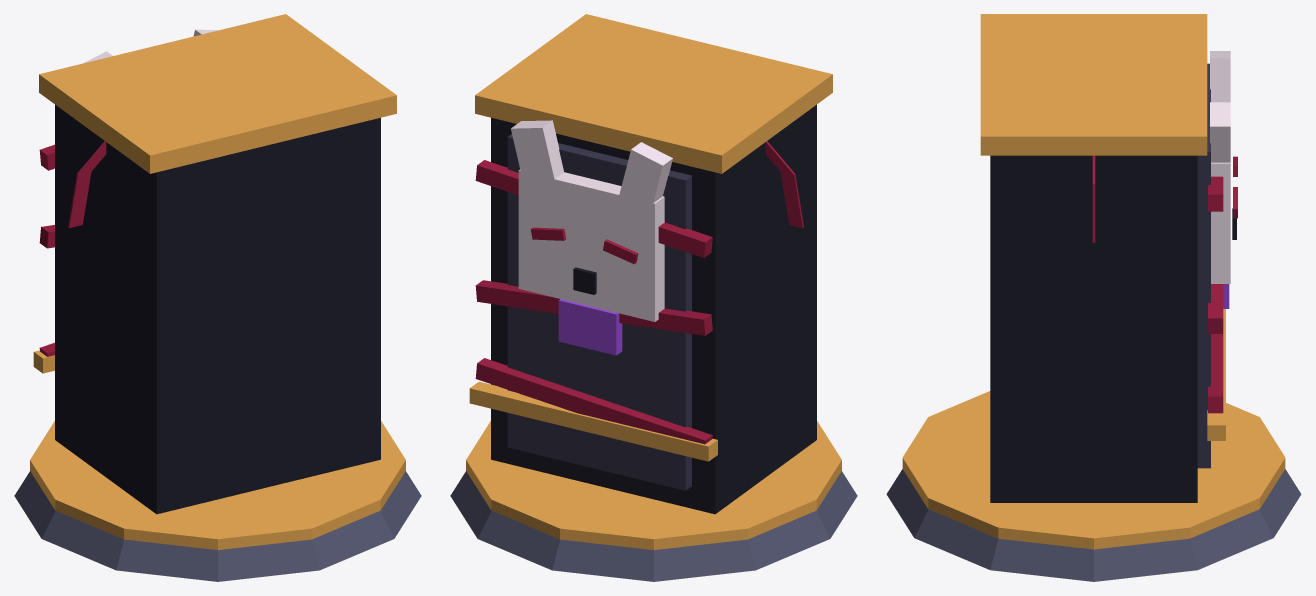
File: KGB_PROP_DojoPracticePost_Default_GAME_v01.obj
3 renders of one model, left to right at view 1: azimuth 30°, elevation 25°; view 2: azimuth 150°, elevation 25°; view 3: azimuth 270°, elevation 25°, orthographic.
Visible parts, largest first — view 1: CharcoalWoodTrainingBody, GoldTopCap, GoldPedestalRim, StonePedestal, CeremonialRibbonB; view 2: CharcoalWoodTrainingBody, GoldTopCap, BodyInset, GoldPedestalRim, IvoryFoxMask, StonePedestal, GoldBelt, CrimsonWrap_0, CrimsonWrap_1, SpiritCore, FoxEarR, FoxEarL (+3 smaller); view 3: CharcoalWoodTrainingBody, GoldTopCap, GoldPedestalRim, StonePedestal, BodyInset, IvoryFoxMask, FoxEarR, CrimsonWrap_0, FoxEarL, GoldBelt, CrimsonWrap_1, CrimsonWrap_2.
Boxes of the visible parts, left/top/right/bottom form: CharcoalWoodTrainingBody: left=55, top=104, right=380, bottom=514; GoldTopCap: left=39, top=14, right=396, bottom=173; GoldPedestalRim: left=30, top=421, right=405, bottom=549; StonePedestal: left=14, top=471, right=421, bottom=581; CeremonialRibbonB: left=68, top=141, right=106, bottom=228; CharcoalWoodTrainingBody: left=491, top=104, right=816, bottom=514; GoldTopCap: left=475, top=14, right=832, bottom=173; BodyInset: left=507, top=134, right=691, bottom=490; GoldPedestalRim: left=466, top=421, right=841, bottom=549; IvoryFoxMask: left=518, top=170, right=664, bottom=321; StonePedestal: left=450, top=471, right=857, bottom=581; GoldBelt: left=469, top=381, right=717, bottom=461; CrimsonWrap_0: left=475, top=358, right=712, bottom=444; CrimsonWrap_1: left=475, top=280, right=712, bottom=335; SpiritCore: left=558, top=299, right=622, bottom=355; FoxEarR: left=511, top=120, right=563, bottom=197; FoxEarL: left=618, top=142, right=672, bottom=226; CharcoalWoodTrainingBody: left=990, top=155, right=1197, bottom=502; GoldTopCap: left=980, top=14, right=1207, bottom=155; GoldPedestalRim: left=902, top=391, right=1285, bottom=549; StonePedestal: left=886, top=469, right=1301, bottom=581; BodyInset: left=1197, top=63, right=1210, bottom=468; IvoryFoxMask: left=1211, top=162, right=1230, bottom=283; FoxEarR: left=1210, top=102, right=1230, bottom=162; CrimsonWrap_0: left=1208, top=334, right=1223, bottom=413; FoxEarL: left=1210, top=51, right=1230, bottom=102; GoldBelt: left=1207, top=309, right=1225, bottom=440; CrimsonWrap_1: left=1208, top=284, right=1223, bottom=333; CrimsonWrap_2: left=1208, top=176, right=1223, bottom=211.
Bounding box in the file's own units: 4.4 × 4.9 × 4.4.
